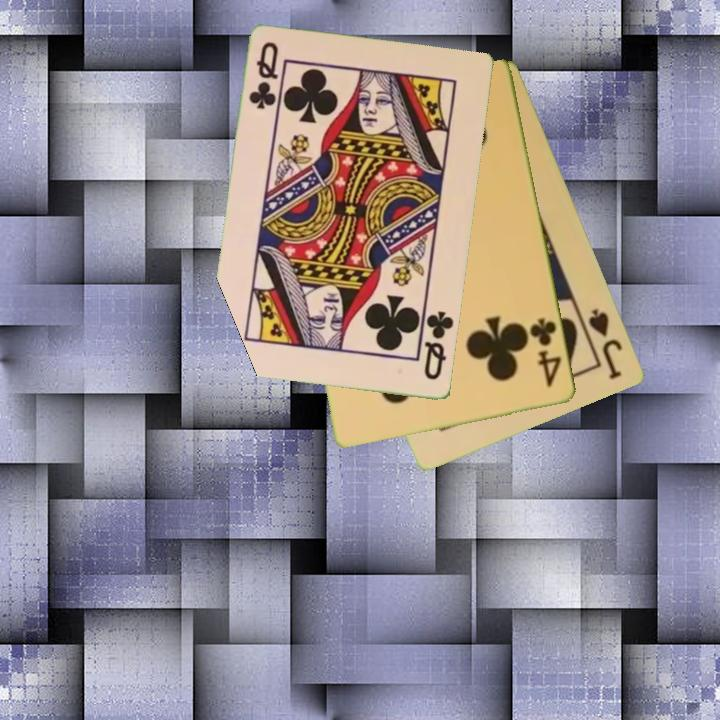4c: (526, 315, 565, 390)
Js: (585, 305, 626, 383)
Qc: (416, 304, 457, 384), (246, 38, 282, 112)
